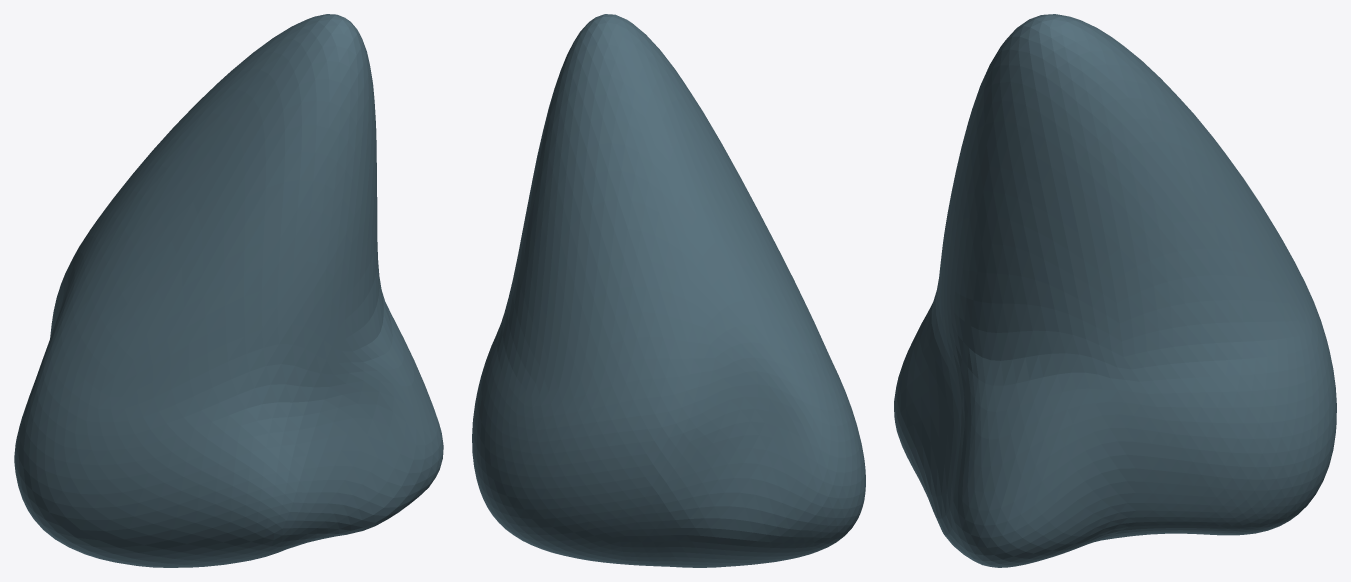
Rendered from Rock2.fbx.
The picture shows the model from 3 angles, left to right: view 1: azimuth 30°, elevation 25°; view 2: azimuth 150°, elevation 25°; view 3: azimuth 270°, elevation 25°; orthographic projection. The views are drawn at different scales.
Parts seen in each view (by area): view 1: Rock2; view 2: Rock2; view 3: Rock2.
Part boxes in pixels (x1,y1,x2,y2): Rock2: (14,14,443,567); Rock2: (472,14,865,567); Rock2: (894,14,1336,567).
Bounding box in the file's own units: 29.98 × 39.23 × 27.87.
